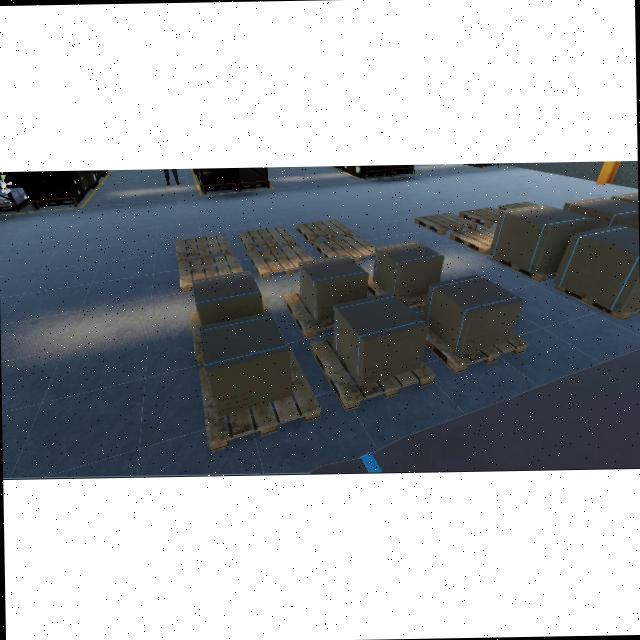wooden_pallet: (197, 345, 322, 452), (309, 335, 435, 411), (420, 311, 530, 373), (552, 282, 639, 320), (177, 250, 245, 292), (282, 292, 335, 337), (249, 243, 314, 279), (491, 253, 559, 283), (174, 232, 232, 264), (238, 224, 297, 253), (413, 210, 478, 236), (313, 235, 375, 262), (294, 218, 353, 244), (448, 226, 495, 255), (458, 206, 503, 228)
